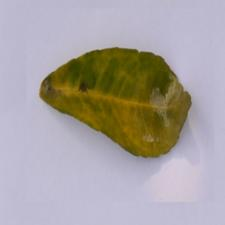Greening: (37, 36, 193, 162)
